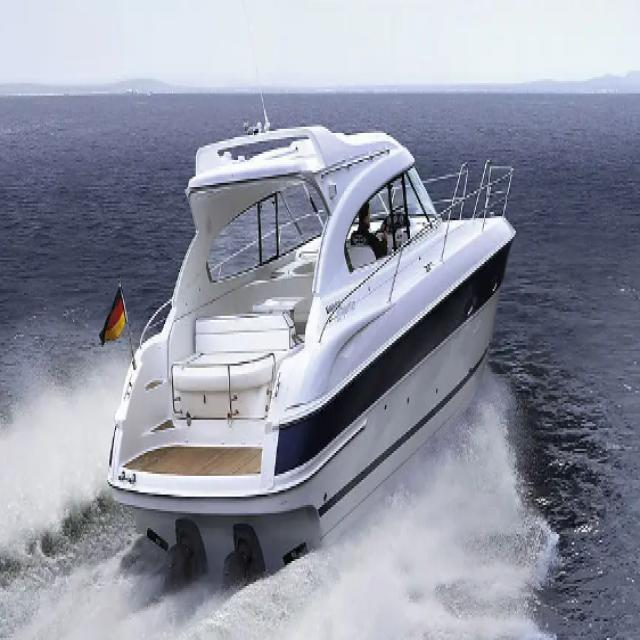houseboat: (112, 118, 513, 554)
